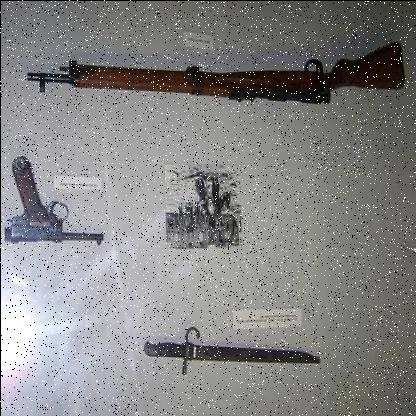rifle: (18, 14, 410, 126)
